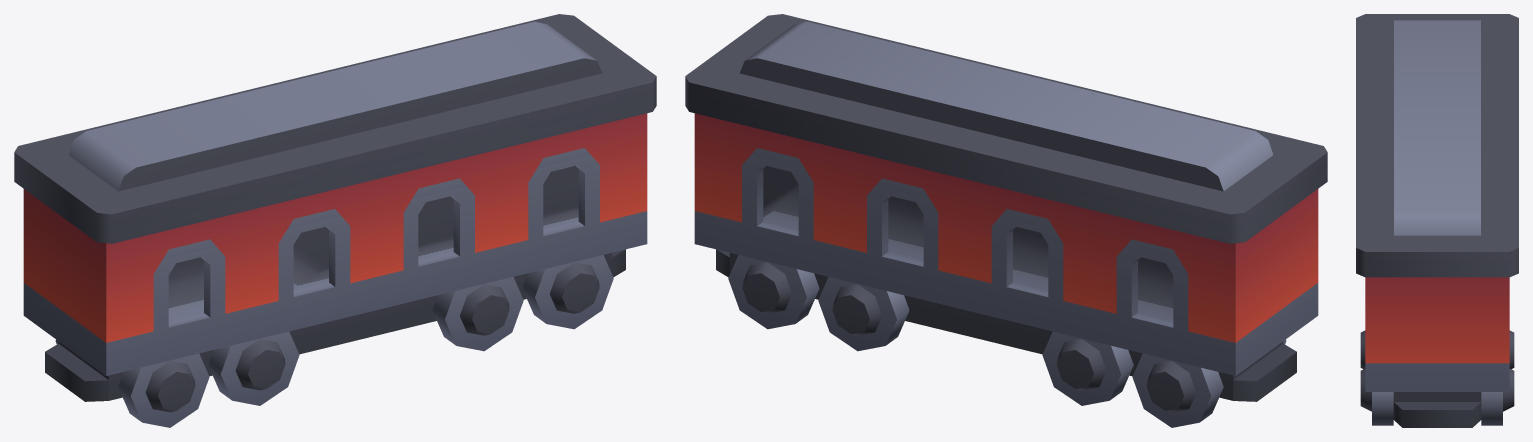
The model's file is kenney-holiday-train-wagon.glb.
The picture shows the model from 3 angles, left to right: view 1: azimuth 30°, elevation 25°; view 2: azimuth 150°, elevation 25°; view 3: azimuth 270°, elevation 25°; orthographic projection. The views are drawn at different scales.
Visible parts, largest first — view 1: train-wagon; view 2: train-wagon; view 3: train-wagon.
Boxes of the visible parts, bbox=[...] form: train-wagon: bbox=[14, 14, 656, 427]; train-wagon: bbox=[685, 14, 1327, 427]; train-wagon: bbox=[1356, 14, 1518, 427].
Size of the model in its own units: 0.7154 by 0.313 by 0.207.
1 material, 1 textured.
